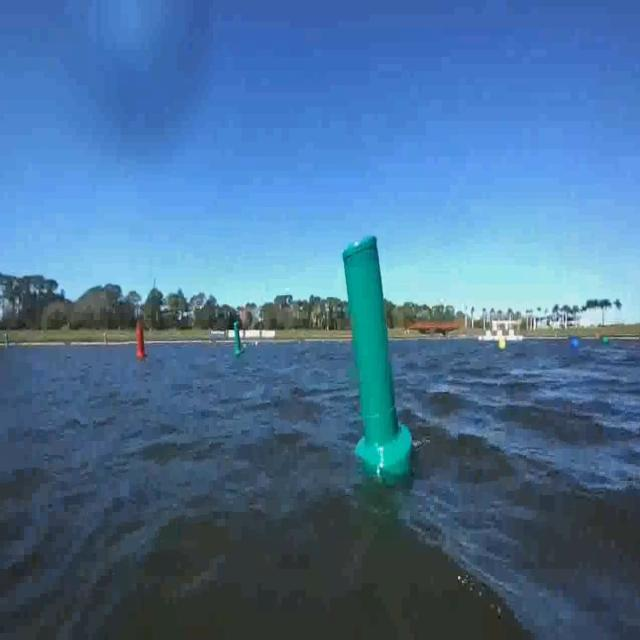blue-buoy: (570, 336, 580, 353)
green-buoy: (602, 337, 609, 348)
green-column-buoy: (342, 235, 412, 482), (234, 322, 245, 356)
red-column-buoy: (135, 320, 148, 360)
yellow-buoy: (498, 337, 507, 353)
